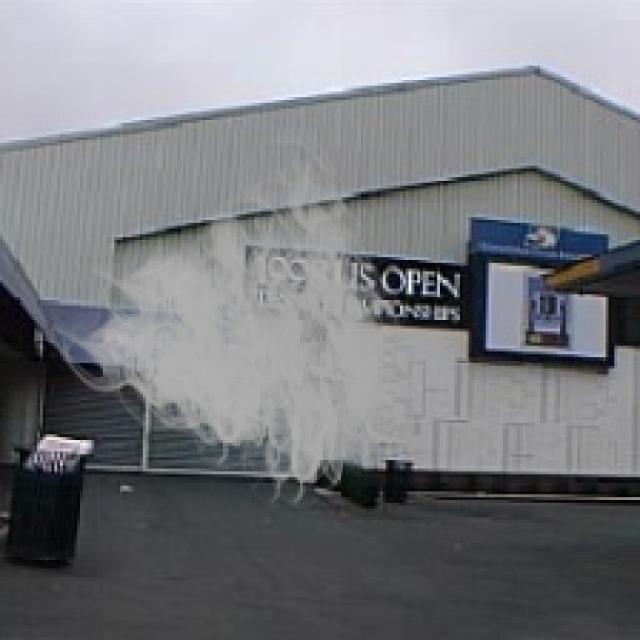smoke: (51, 123, 426, 520)
